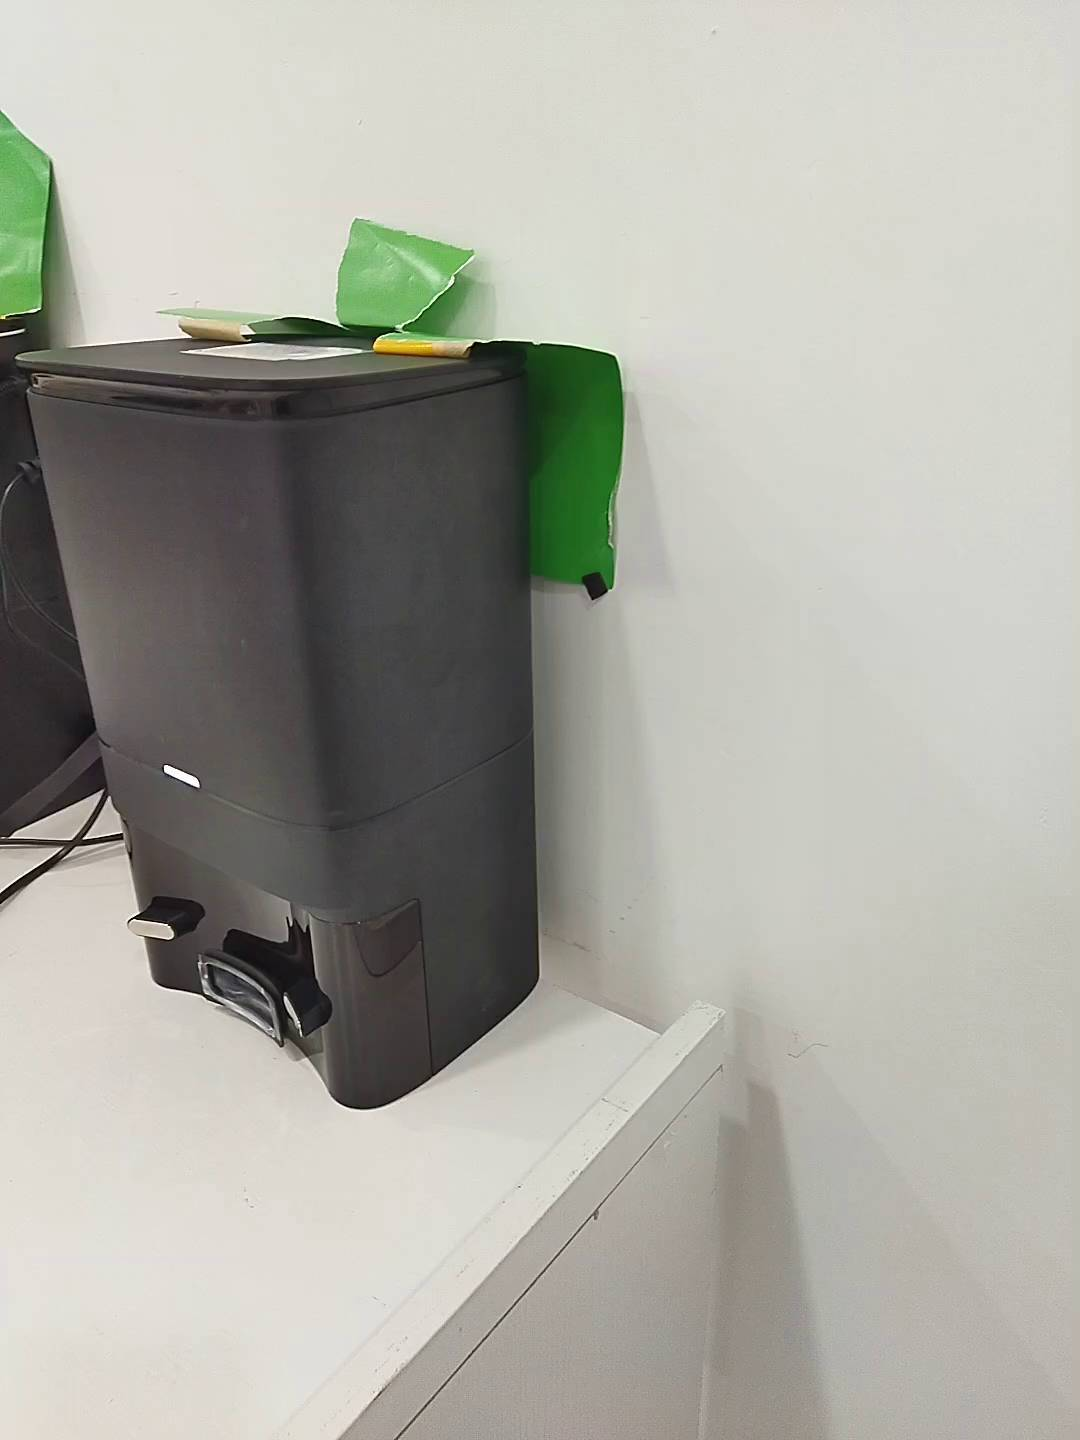dust collecting barrel: (16, 338, 537, 1110)
